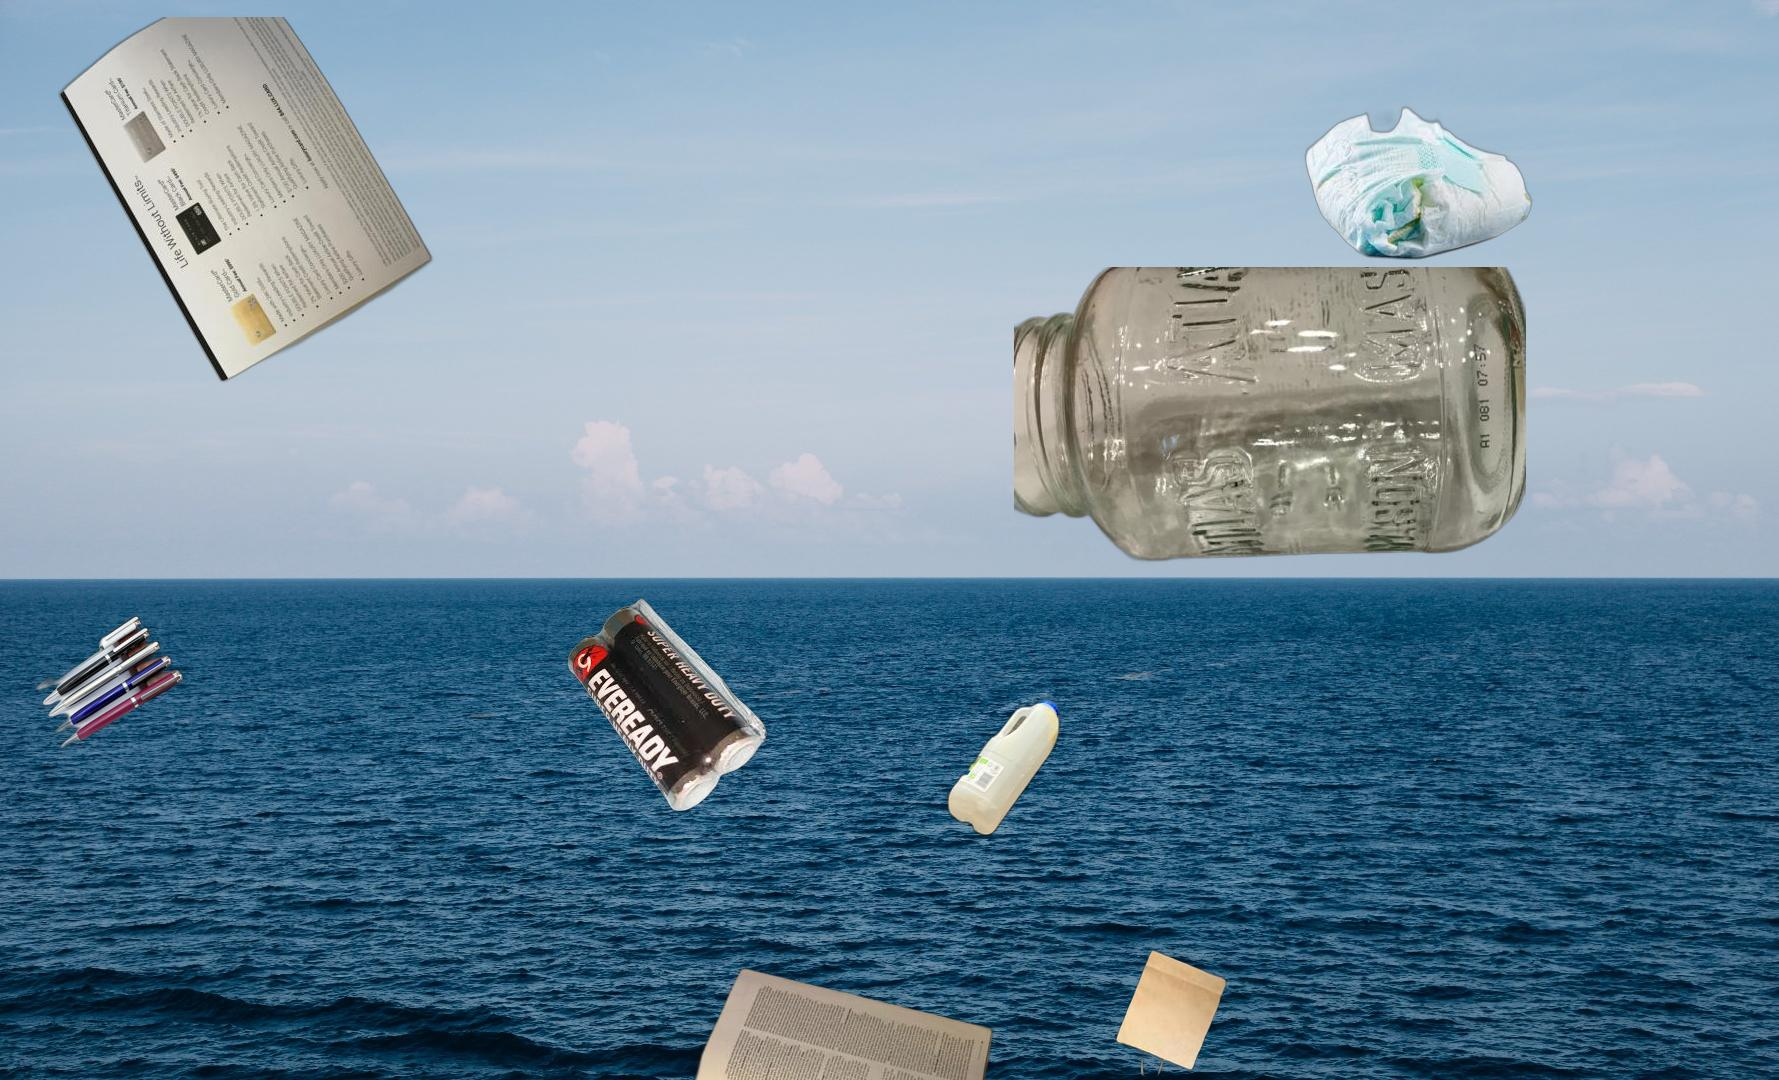battery: (565, 596, 773, 814)
glass: (1014, 267, 1526, 609)
paper: (55, 17, 436, 382), (660, 964, 998, 1080)
paper-bag: (1113, 947, 1228, 1080)
penholder: (36, 612, 186, 752)
plastic-bottles: (686, 564, 1064, 842)
trash: (1302, 99, 1535, 262)
